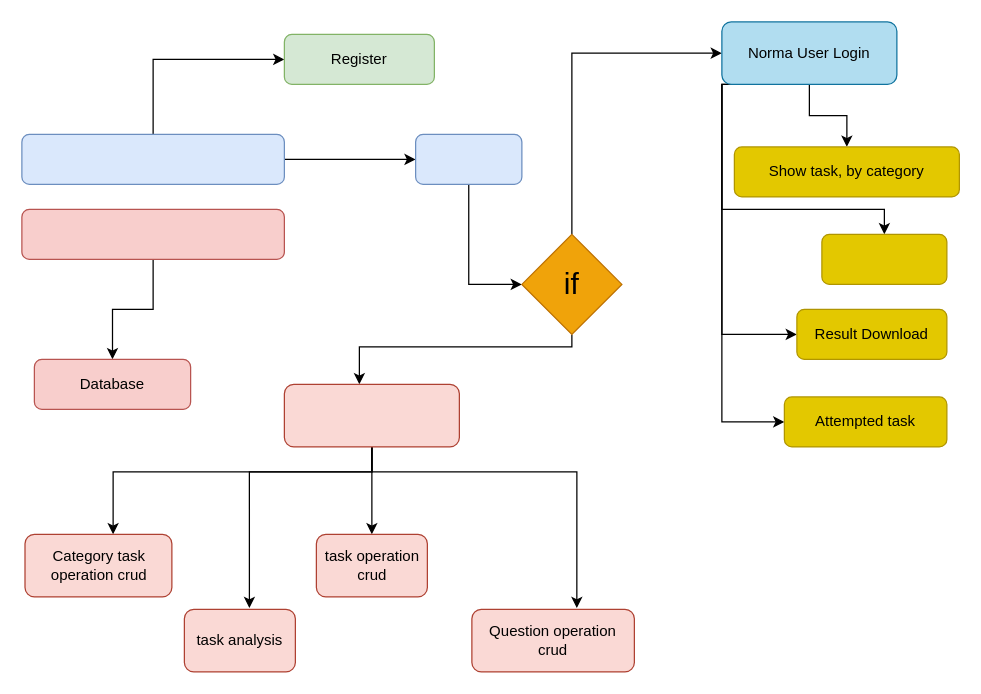
This 981x694 diagram has some shape labels left out. Here are the shapes that lost their labels. From the top down, the box of each, then its label:
(21, 133, 284, 184): user
(414, 133, 522, 184): Login
(21, 208, 284, 259): Admin | Normal
(821, 233, 947, 284): take task
(283, 383, 459, 447): Admin User Login
